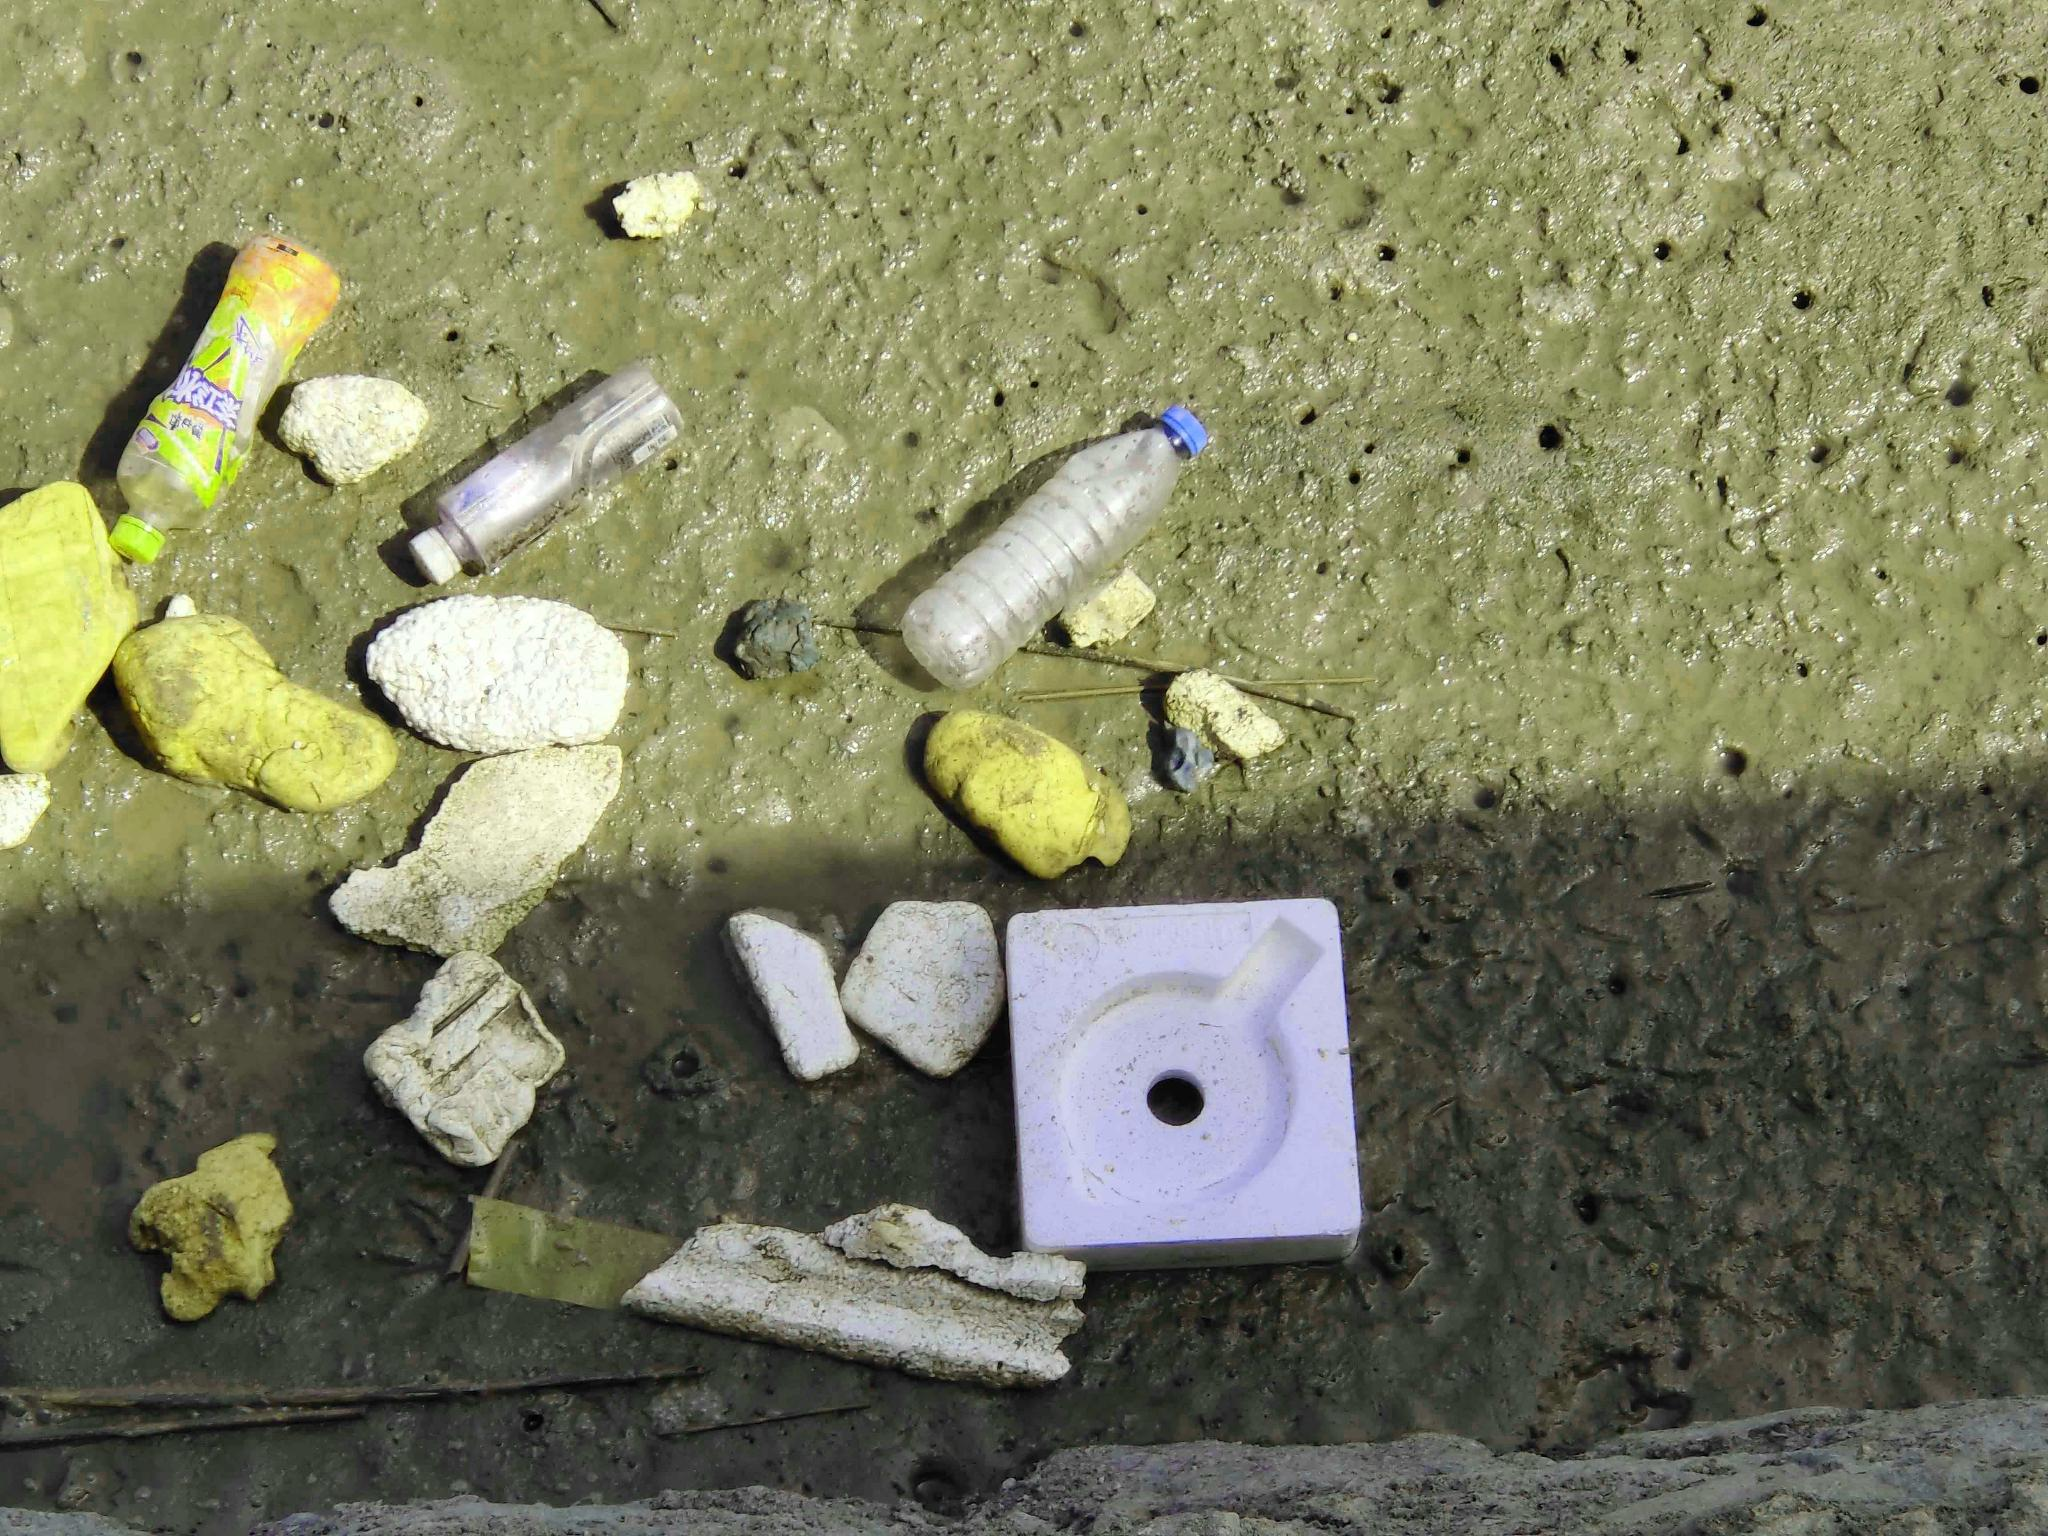Plastic: (901, 403, 1206, 686), (411, 366, 681, 589)
Trash: (1009, 891, 1364, 1255), (632, 1205, 1080, 1367), (329, 750, 618, 947), (360, 957, 563, 1167), (376, 594, 629, 747), (855, 897, 993, 1075), (724, 913, 840, 1078)
